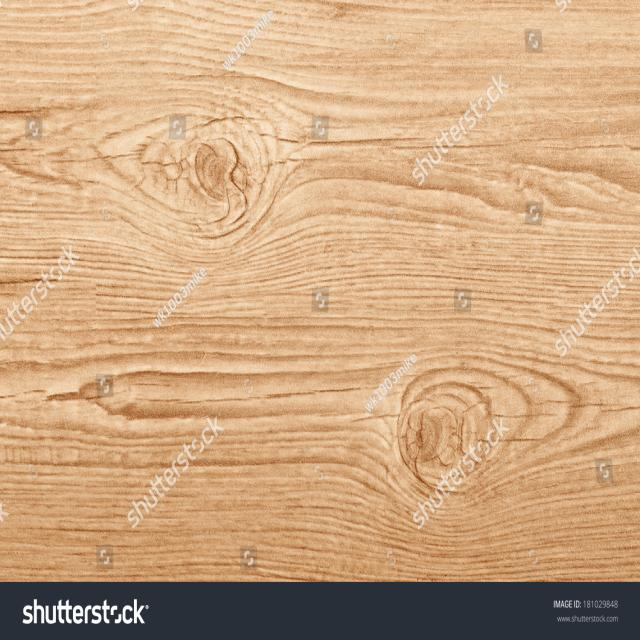have-wooden-eyes: (140, 121, 270, 238), (399, 383, 491, 485)
